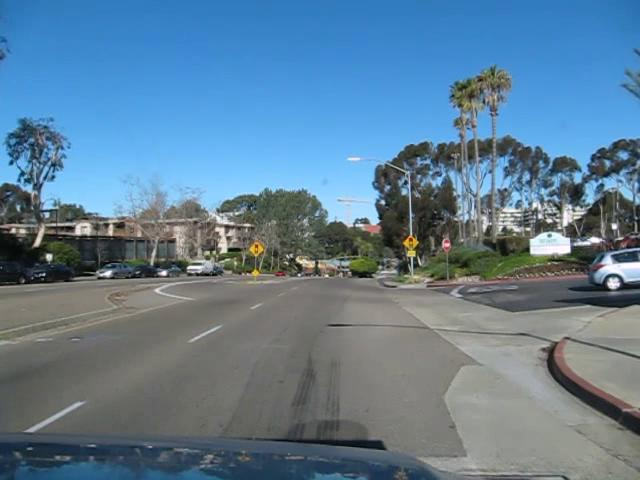signalAhead: (401, 233, 419, 251)
